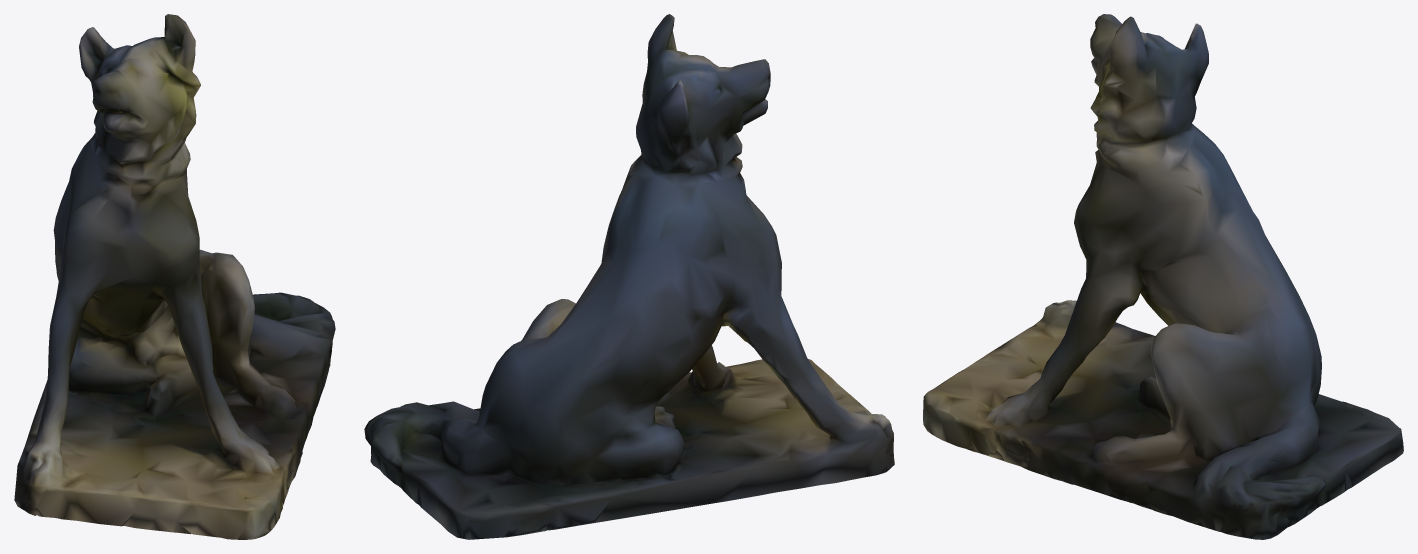
Rendered from gaunt-hound.723f350d.glb.
The picture shows the model from 3 angles, left to right: view 1: azimuth 30°, elevation 25°; view 2: azimuth 150°, elevation 25°; view 3: azimuth 270°, elevation 25°; orthographic projection. The views are drawn at different scales.
Visible parts, largest first — view 1: body; view 2: body; view 3: body.
Part boxes in pixels (left/top/right/bottom): body: left=14, top=14, right=335, bottom=539; body: left=364, top=14, right=894, bottom=539; body: left=923, top=14, right=1403, bottom=539.
Size of what is drawn, in the model's own units: 0.9323 by 0.9645 by 0.9994.
